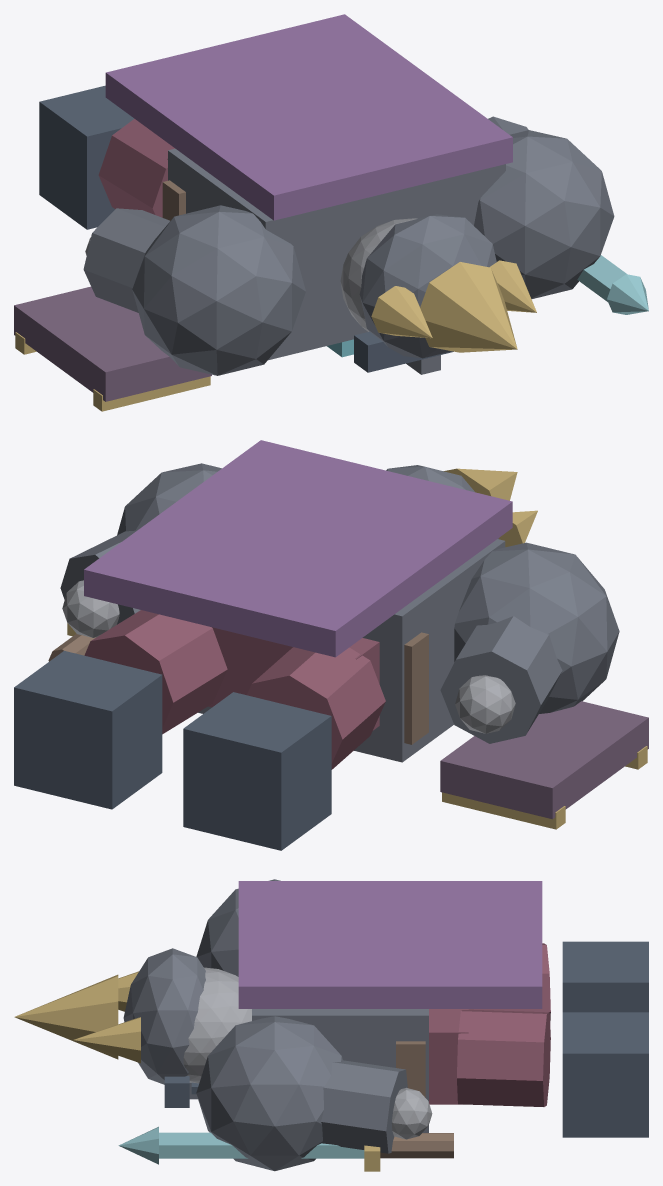
The model's file is 06_forgotten_knight_boss.glb.
The picture shows the model from 3 angles, top to bottom: view 1: azimuth 30°, elevation 25°; view 2: azimuth 150°, elevation 25°; view 3: azimuth 270°, elevation 25°; orthographic projection. The views are drawn at different scales.
Visible parts, largest first — view 1: dark_cape, shoulder-1, torso, shoulder1, shield_body, boot-1, helmet, crown_center, arm-1, upper_leg-1, crown_left, head (+6 smaller); view 2: dark_cape, boot-1, boot1, shield_body, shoulder-1, torso, upper_leg1, upper_leg-1, arm-1, hips, shoulder1, hand-1 (+7 smaller); view 3: dark_cape, shoulder1, boot1, upper_leg1, helmet, boot-1, arm1, torso, crown_center, head, hips, sword_blade (+10 smaller).
Boxes of the visible parts, left/top/right/bottom form: dark_cape: left=105, top=14, right=512, bottom=220; shoulder-1: left=132, top=205, right=305, bottom=375; torso: left=168, top=148, right=505, bottom=360; shoulder1: left=474, top=130, right=614, bottom=298; shield_body: left=14, top=286, right=211, bottom=401; boot-1: left=39, top=85, right=134, bottom=229; helmet: left=359, top=214, right=496, bottom=358; crown_center: left=420, top=262, right=517, bottom=352; arm-1: left=83, top=208, right=169, bottom=312; upper_leg-1: left=98, top=119, right=174, bottom=217; crown_left: left=371, top=286, right=432, bottom=338; head: left=340, top=218, right=417, bottom=331; dark_cape: left=84, top=440, right=512, bottom=657; boot-1: left=183, top=692, right=331, bottom=850; boot1: left=14, top=650, right=162, bottom=809; shield_body: left=440, top=701, right=648, bottom=819; shoulder-1: left=454, top=542, right=619, bottom=713; torso: left=198, top=539, right=505, bottom=762; upper_leg1: left=84, top=610, right=227, bottom=734; upper_leg-1: left=247, top=647, right=385, bottom=769; arm-1: left=440, top=616, right=562, bottom=743; hips: left=208, top=627, right=379, bottom=730; shoulder1: left=117, top=463, right=221, bottom=535; hand-1: left=455, top=675, right=515, bottom=733; dark_cape: left=238, top=881, right=542, bottom=1008; shoulder1: left=196, top=1016, right=343, bottom=1171; boot1: left=562, top=1012, right=648, bottom=1137; upper_leg1: left=457, top=1009, right=550, bottom=1106; helmet: left=123, top=948, right=205, bottom=1084; boot-1: left=562, top=941, right=648, bottom=1012; arm1: left=321, top=1060, right=407, bottom=1153; torso: left=252, top=1009, right=428, bottom=1132; crown_center: left=14, top=974, right=118, bottom=1059; head: left=183, top=967, right=251, bottom=1083; hips: left=429, top=1009, right=468, bottom=1104; sword_blade: left=159, top=1132, right=364, bottom=1158.
Bounding box in the file's own units: 2.3 × 0.985 × 2.8.
